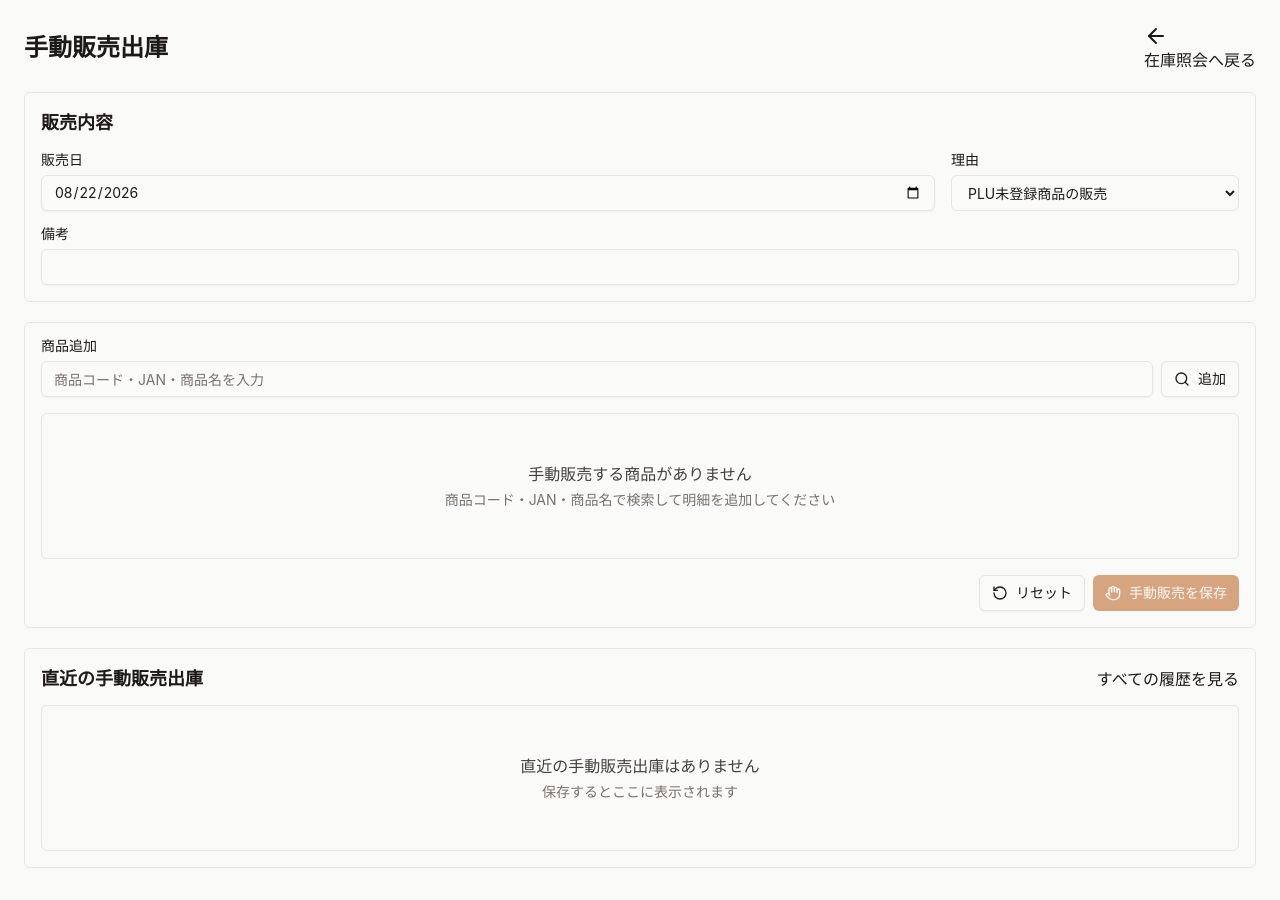
Test: ManualSalePage (UI-04 / REQ-203) › REQ-203 requires explicit selection when multiple products match
Type "布" into the dropdown named "手動販売商品検索".
click(597, 379); type("布")  # box [41, 361, 1153, 397]
Then press Enter
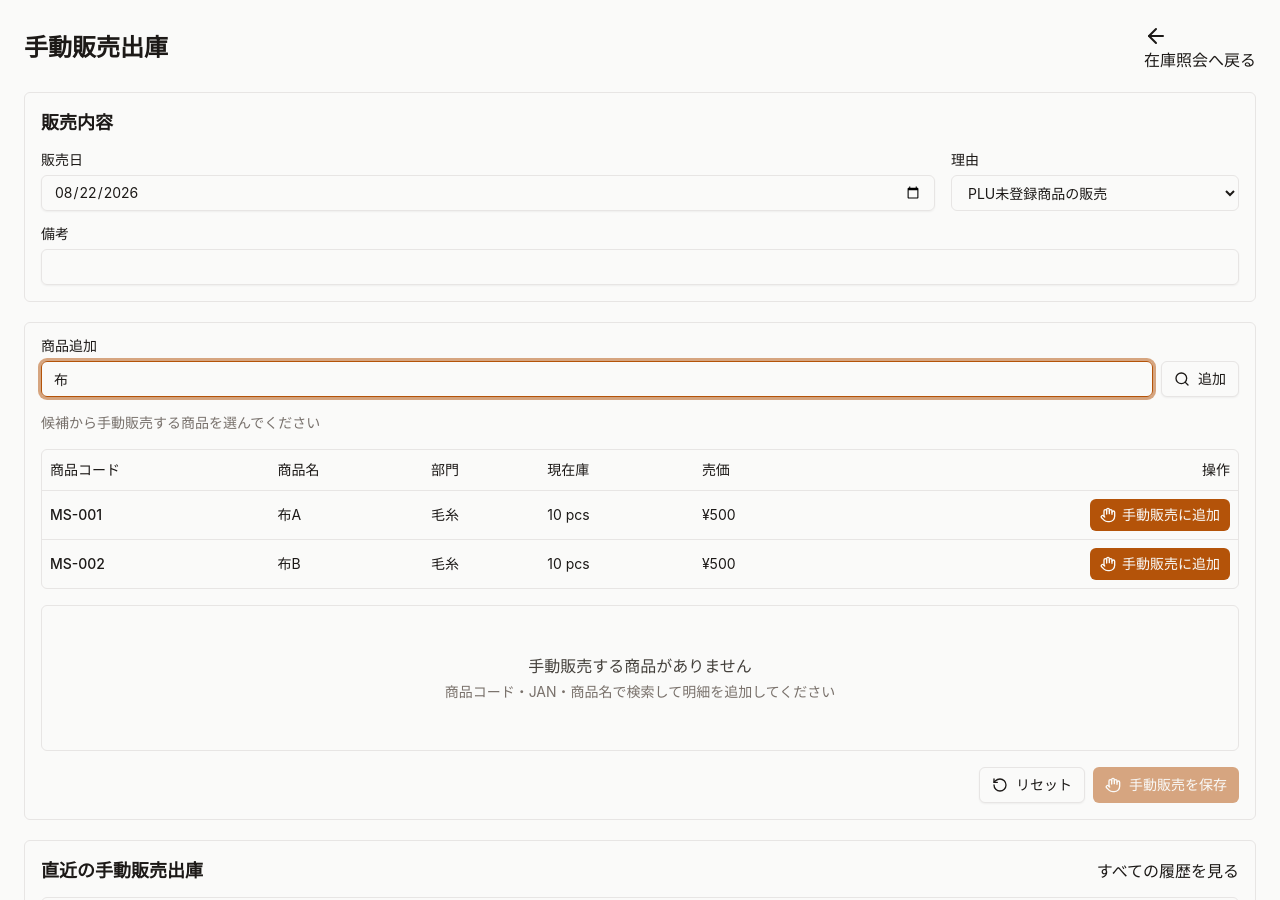
Expected: the text "候補から手動販売する商品を選んでください" is shown, [41, 413, 320, 433]
Click the button "手動販売に追加" in the row of "MS-002".
click(1160, 564)  # box [1090, 548, 1230, 580]
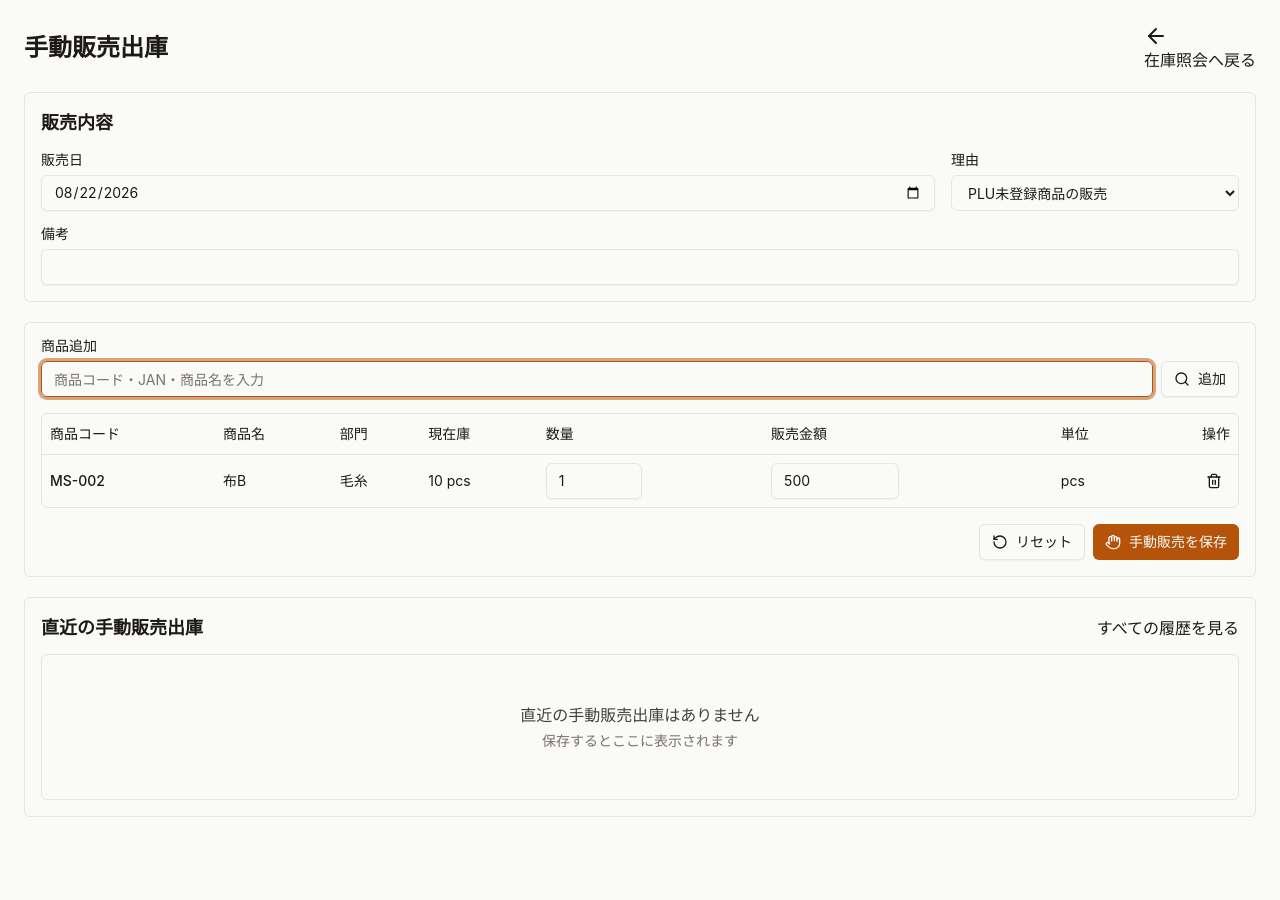
Expected: the number field named "MS-002 の数量" is shown, [546, 462, 642, 498]
